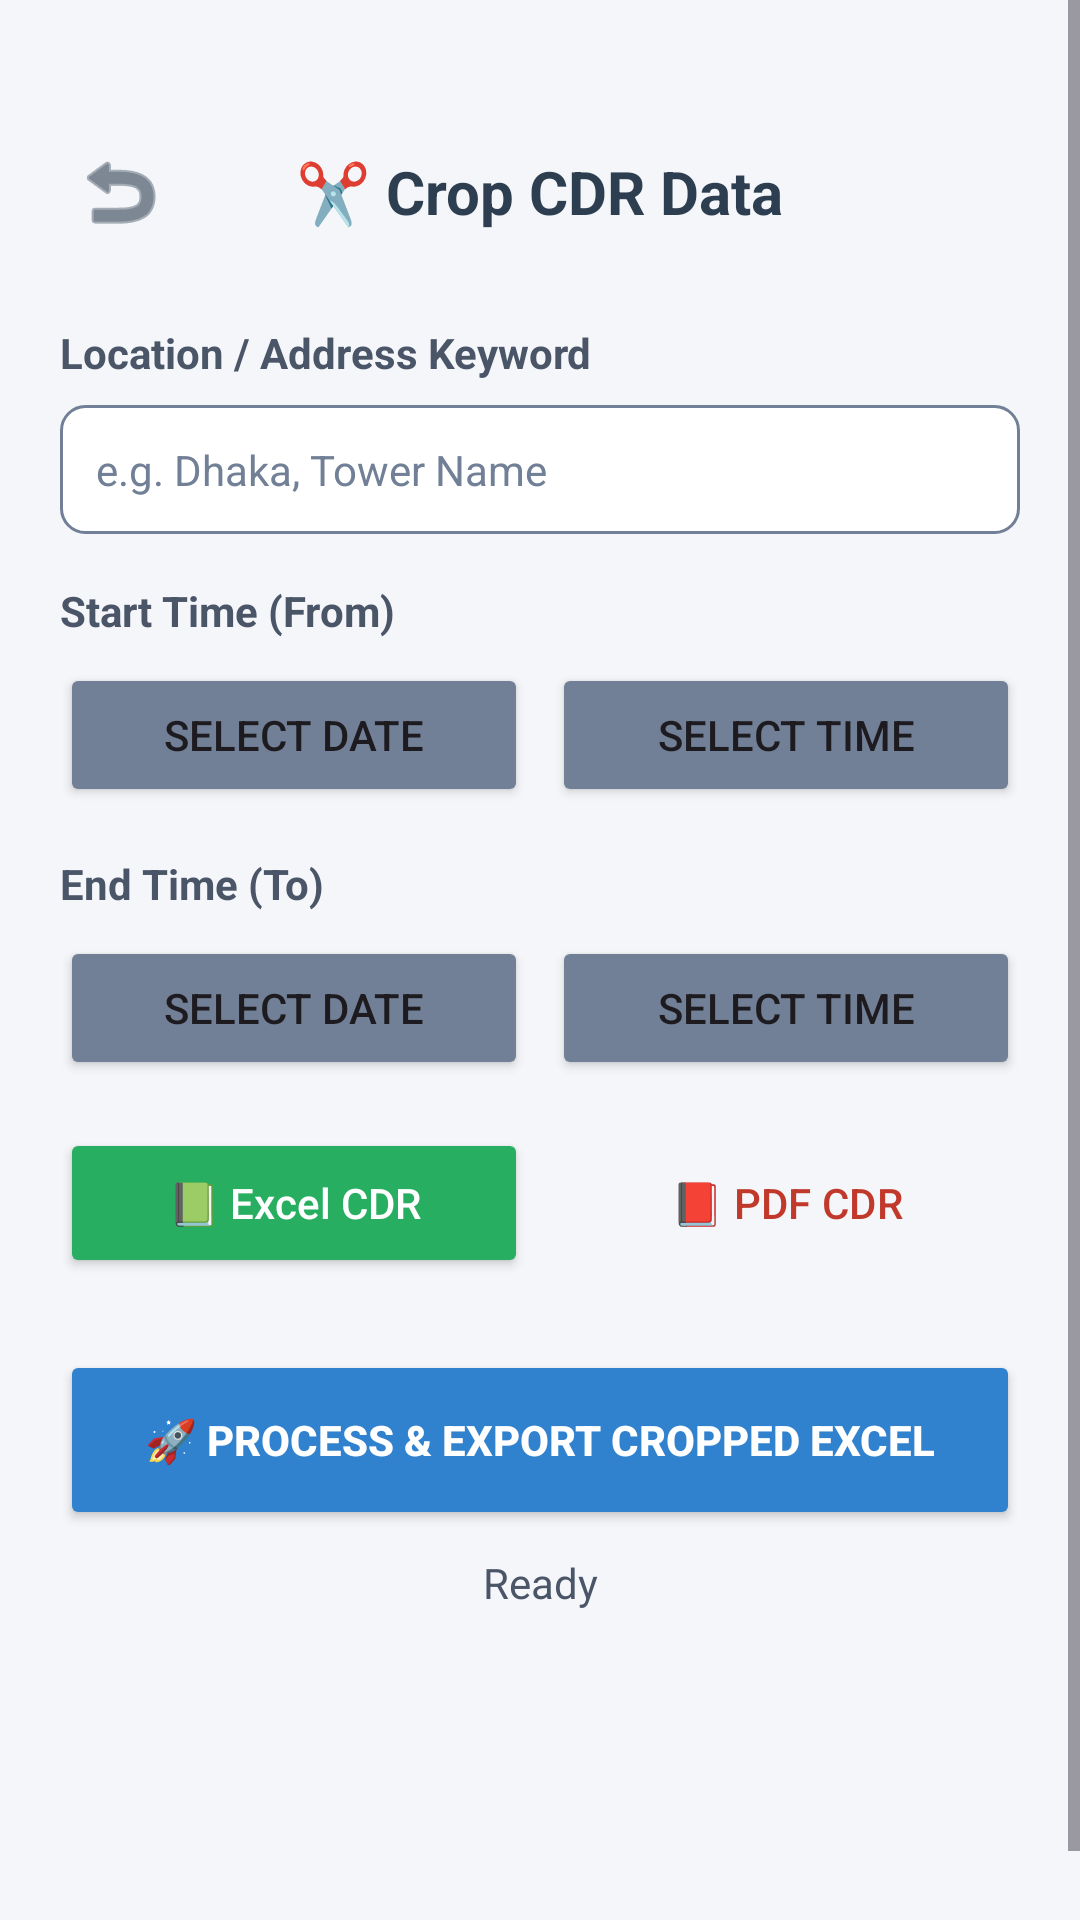

Locate icon controls on the screen. Image size 1080×1920, boxes as (x1, y1, x2, y2).
revert: (87, 161, 156, 224)
